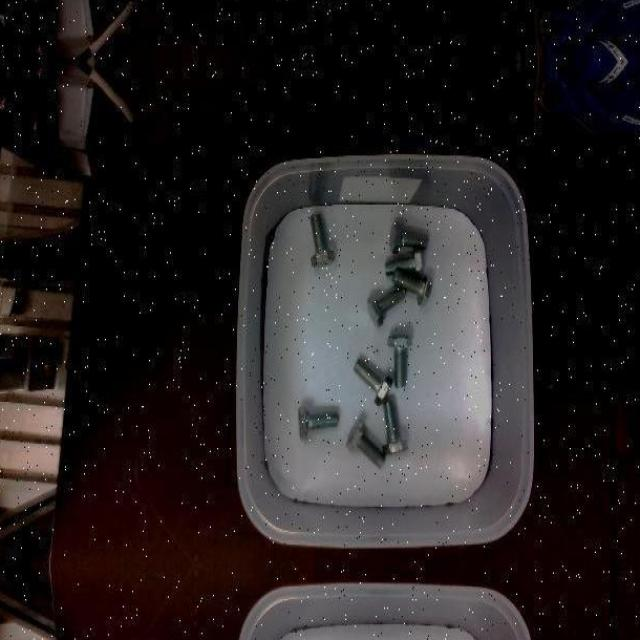screw: (352, 358, 393, 407), (345, 418, 385, 467), (377, 400, 409, 454), (367, 286, 406, 327), (392, 268, 432, 306), (297, 405, 337, 441), (310, 213, 334, 268), (386, 334, 411, 386), (389, 220, 428, 252)
